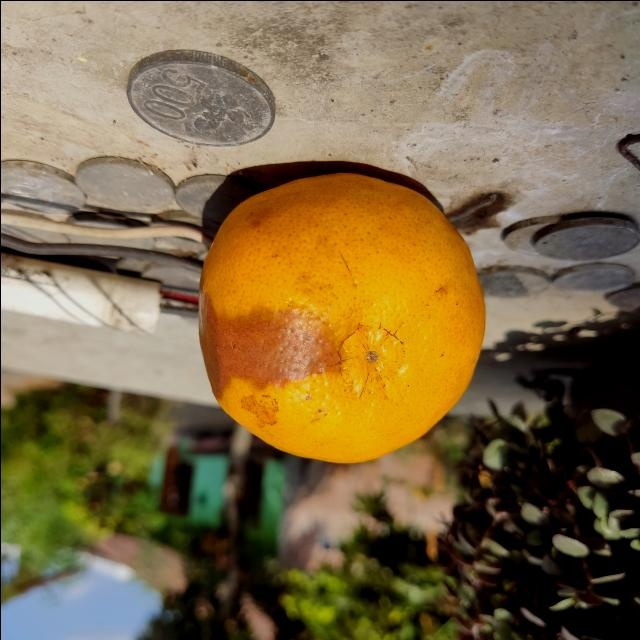agrume: (196, 172, 489, 464)
